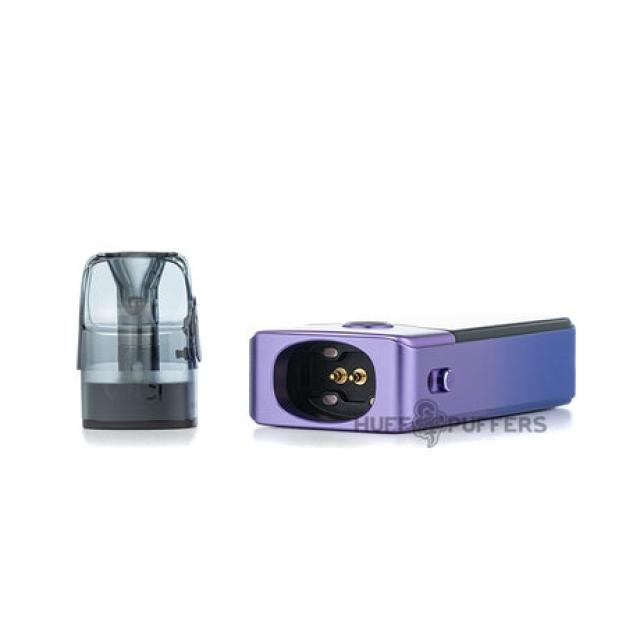Vapes: (248, 315, 576, 434), (75, 249, 202, 430)
